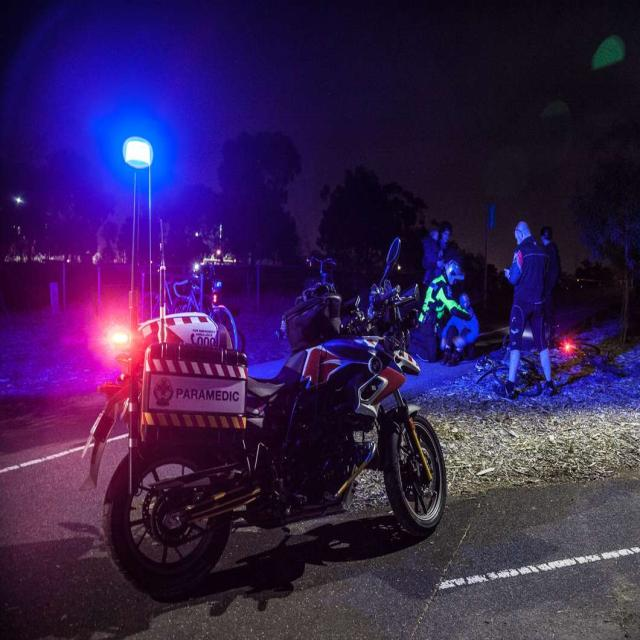Motorbike: (88, 259, 436, 571), (285, 222, 420, 369), (400, 187, 482, 368), (163, 250, 236, 342)
